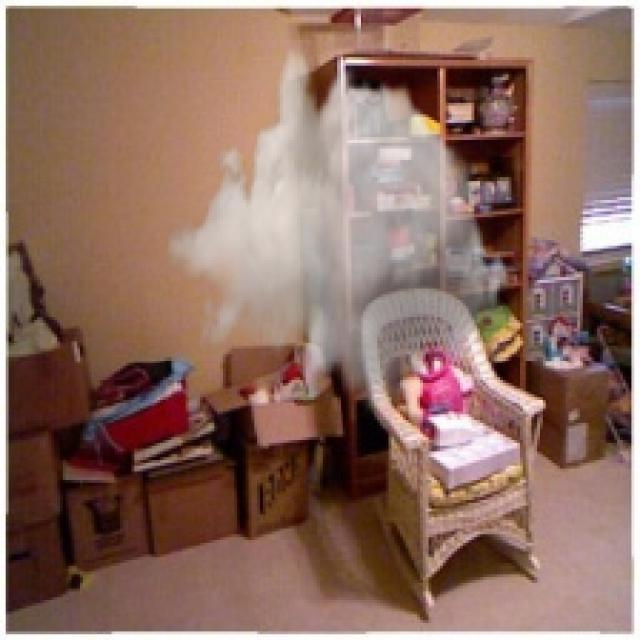Smoke: (166, 43, 512, 420)
